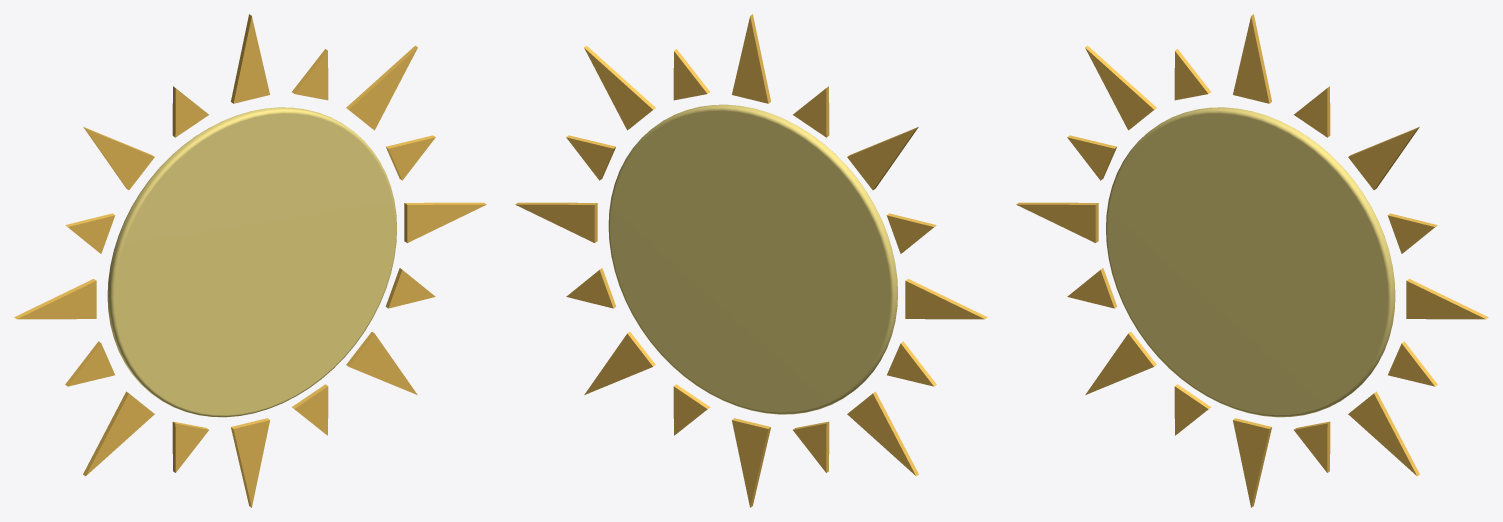
File: ParasolPlummetSun.obj
3 views of the same model, side by side, from view 1: azimuth 30°, elevation 25°; view 2: azimuth 150°, elevation 25°; view 3: azimuth 330°, elevation 25° (orthographic).
Visible parts, largest first — view 1: Sun, Rays; view 2: Sun, Rays; view 3: Sun, Rays.
Boxes of the visible parts, x1,y1,x2,y2 form: Sun: (107,107,396,417); Rays: (14,14,486,507); Sun: (608,104,897,414); Rays: (515,14,987,507); Sun: (1106,107,1395,417); Rays: (1016,14,1488,507).
Bounding box in the file's own units: 59 × 59 × 1.3.
